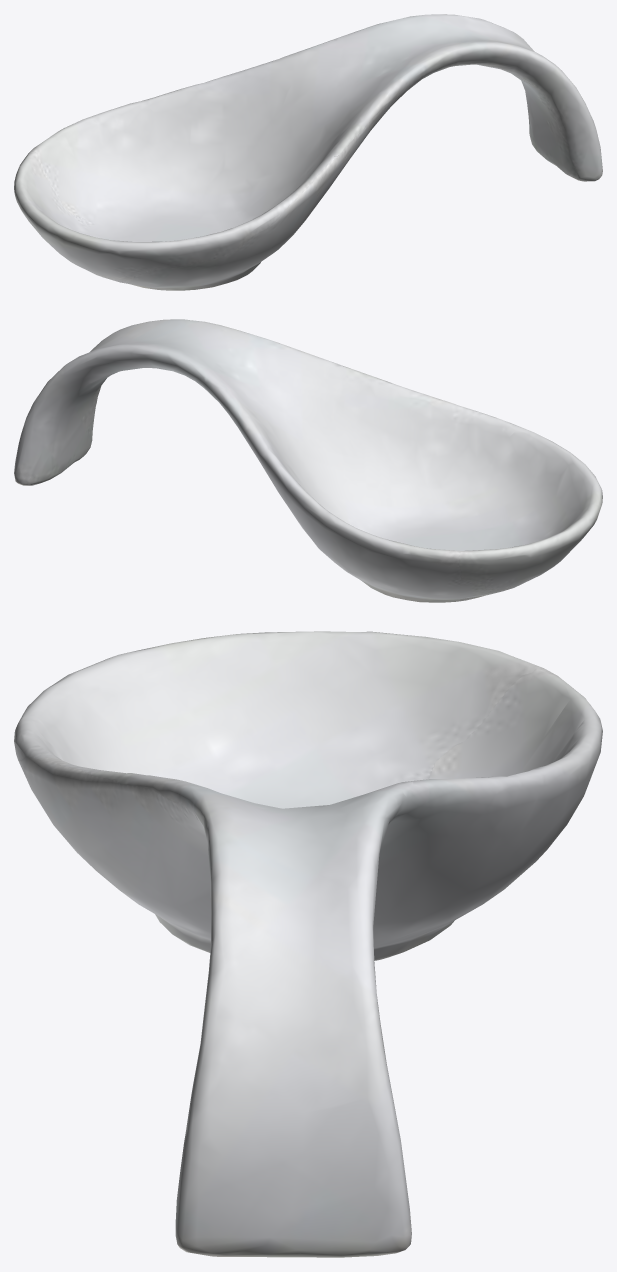
The model's file is gso_threshold_porcelain_spoon_rest_white.glb.
3 views of the same model, one above another, from view 1: azimuth 30°, elevation 25°; view 2: azimuth 150°, elevation 25°; view 3: azimuth 270°, elevation 25° (orthographic). The views are drawn at different scales.
Visible parts, largest first — view 1: z-up-to-y-up; view 2: z-up-to-y-up; view 3: z-up-to-y-up.
Part boxes in pixels (x1,y1,x2,y2): z-up-to-y-up: (14,14,602,290); z-up-to-y-up: (14,319,602,602); z-up-to-y-up: (14,631,602,1257).
Bounding box in the file's own units: 0.2367 × 0.0715 × 0.1176.
1 material, 1 textured.
